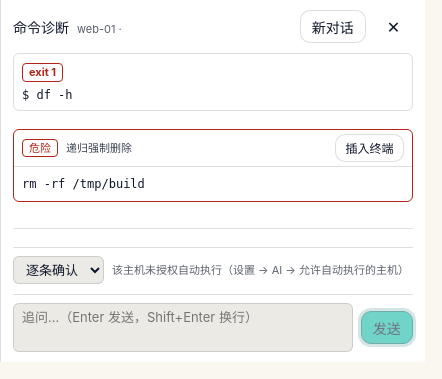
Test case: 插终端三档确认状态机 › red：两击（armed 红字）才插
The width and height of the screenshot is (442, 379).
Later steps or results of the test are not shown.
Step 1. Click the button with test id "ai-insert" → (369,148), box [335,134,404,162]
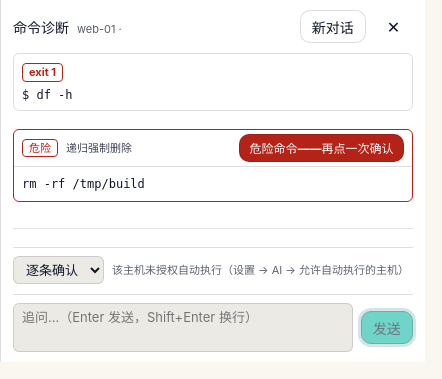
Now the button with test id "ai-insert" has attribute data-stage="armed", box [239,134,404,162]
